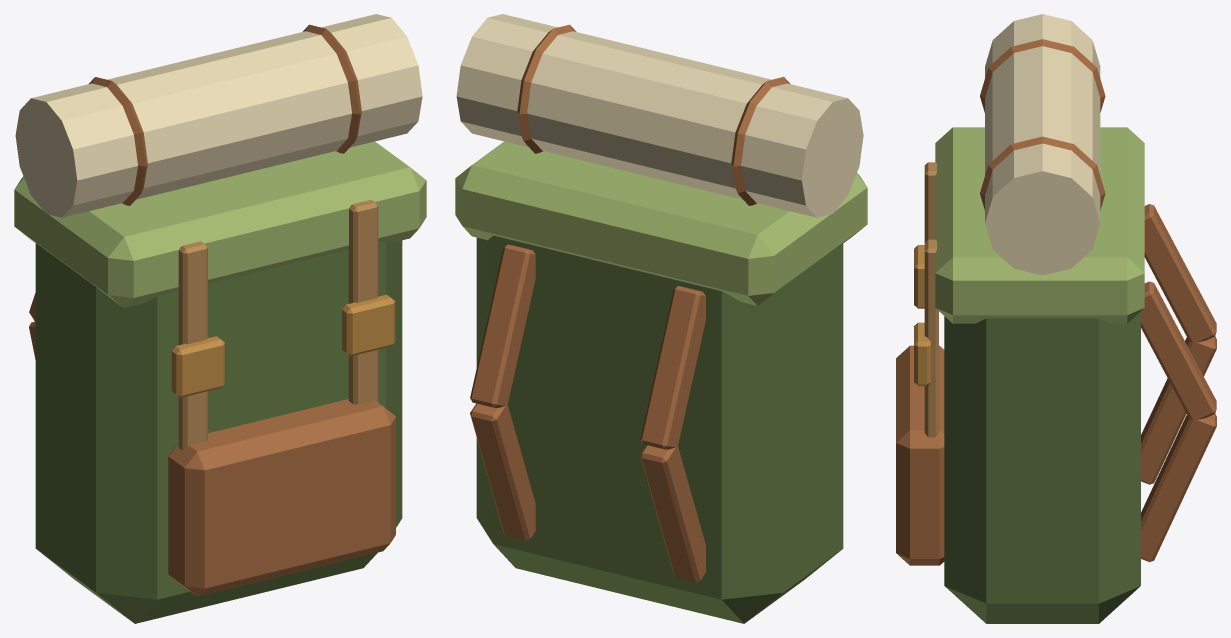
File: 05_Trail_Backpack.glb
3 views of the same model, side by side, from view 1: azimuth 30°, elevation 25°; view 2: azimuth 150°, elevation 25°; view 3: azimuth 270°, elevation 25° (orthographic). The views are drawn at different scales.
Parts seen in each view (by area): view 1: 05_Trail_Backpack__Body; view 2: 05_Trail_Backpack__Body; view 3: 05_Trail_Backpack__Body.
Boxes of the visible parts, box(x1,y1,x2,y2) form: 05_Trail_Backpack__Body: box(14, 14, 426, 623); 05_Trail_Backpack__Body: box(455, 14, 867, 623); 05_Trail_Backpack__Body: box(896, 14, 1216, 623).
Size of the model in its own units: 1.42 by 2.04 by 1.23.
Materials: 1 (1 with a texture image).
